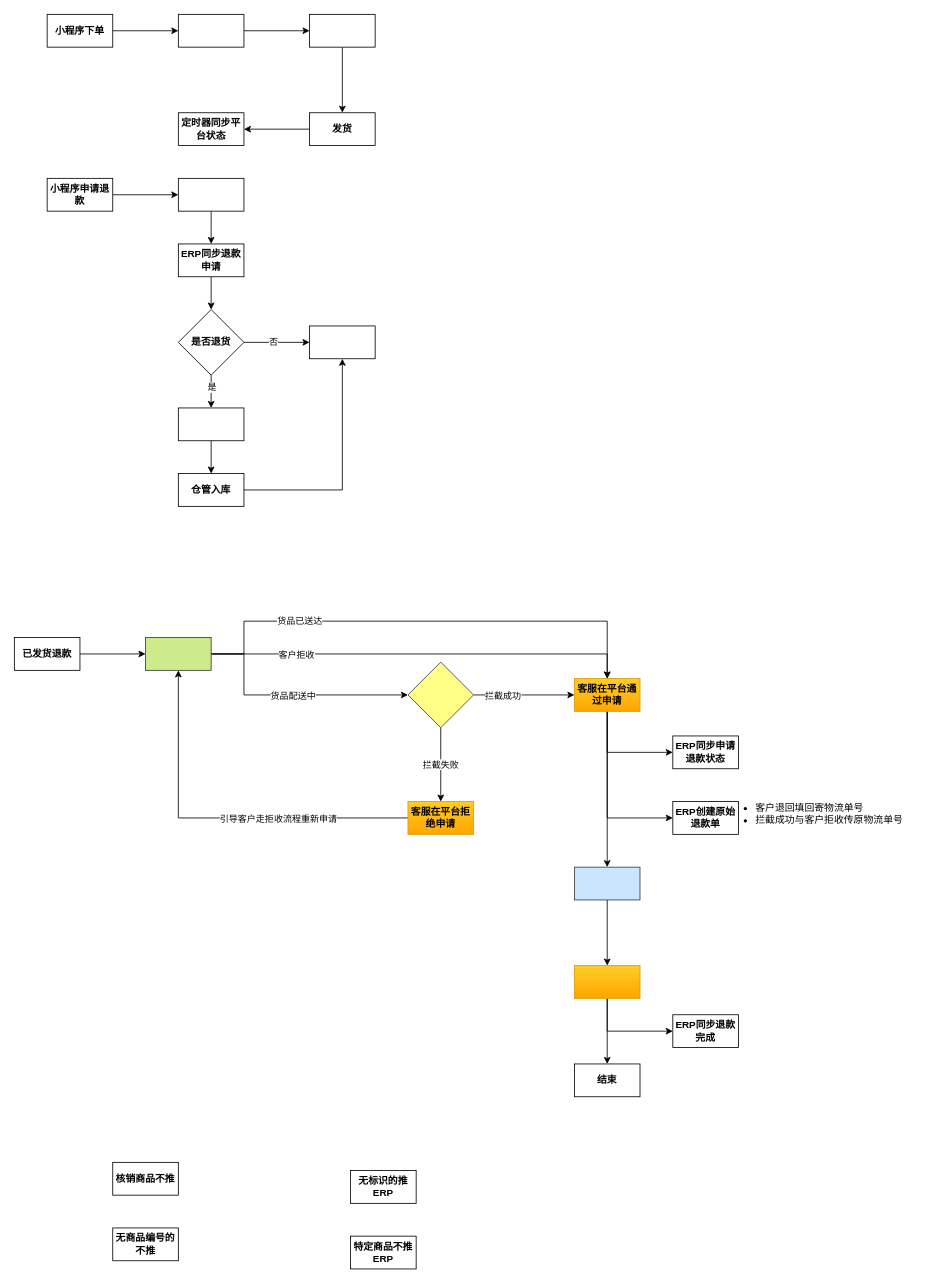
The diagram is 935 pixels wide and 1283 high, and some of its shapes have lost their labels. The centre of each missing label's shape, as x and y in pixels:
"仓管在ERP操作入库" goes at point 607,883.
"仓管审核" goes at point 342,30.
"定时器推送到ERP" goes at point 211,30.
"定时器检测用户发货状态" goes at point 211,424.
"客户小程序申请退款" goes at point 178,653.
"客服后台审核" goes at point 211,194.
"客服在平台 退款" goes at point 607,981.
"客服拦截" goes at point 440,694.
"退款" goes at point 342,342.
